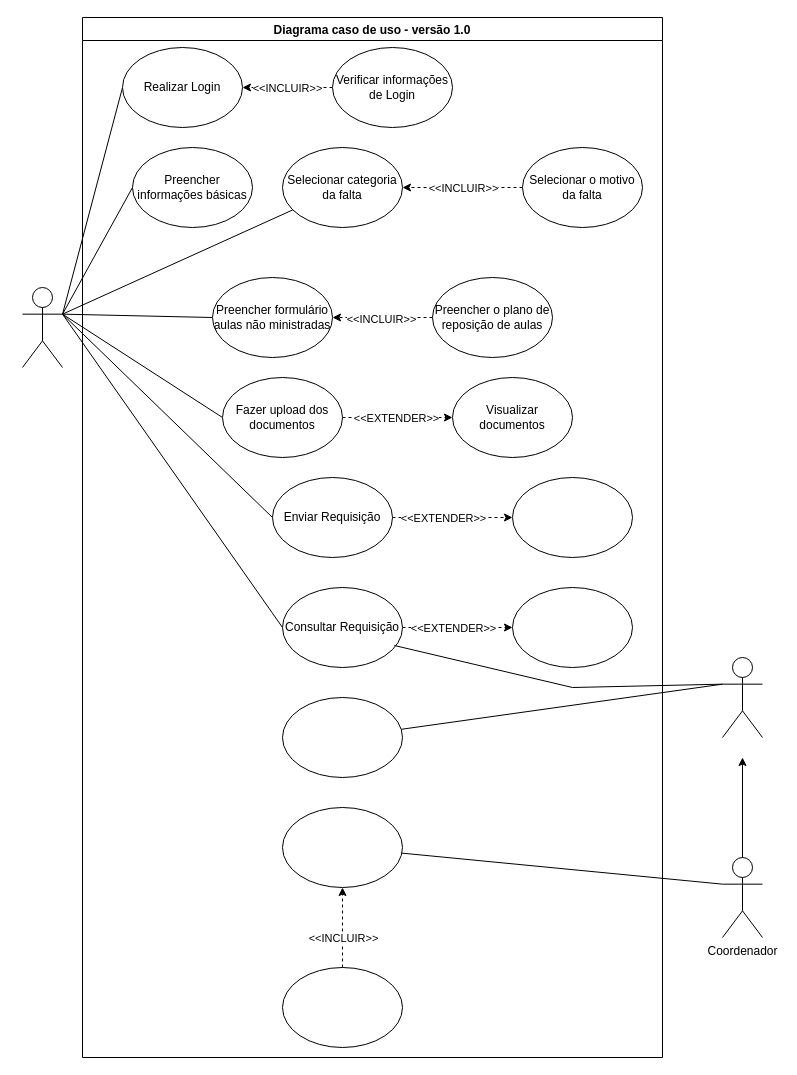
The diagram is 797 pixels wide and 1075 high, and some of its shapes have lost their labels. The shapes that lost their labels are listed below. From the top down, each one's centre as x and y in pixels, then its label:
At [42,327]: "Professor FATEC".
At [572,517]: "Corrigir dados".
At [572,627]: "Gerar Arquivo PDF".
At [742,697]: "Administrativo".
At [342,737]: "Aceitar Documentos da Requisição".
At [342,847]: "Finalizar Requisição".
At [342,1007]: "Aprovar ou Reprovar".
